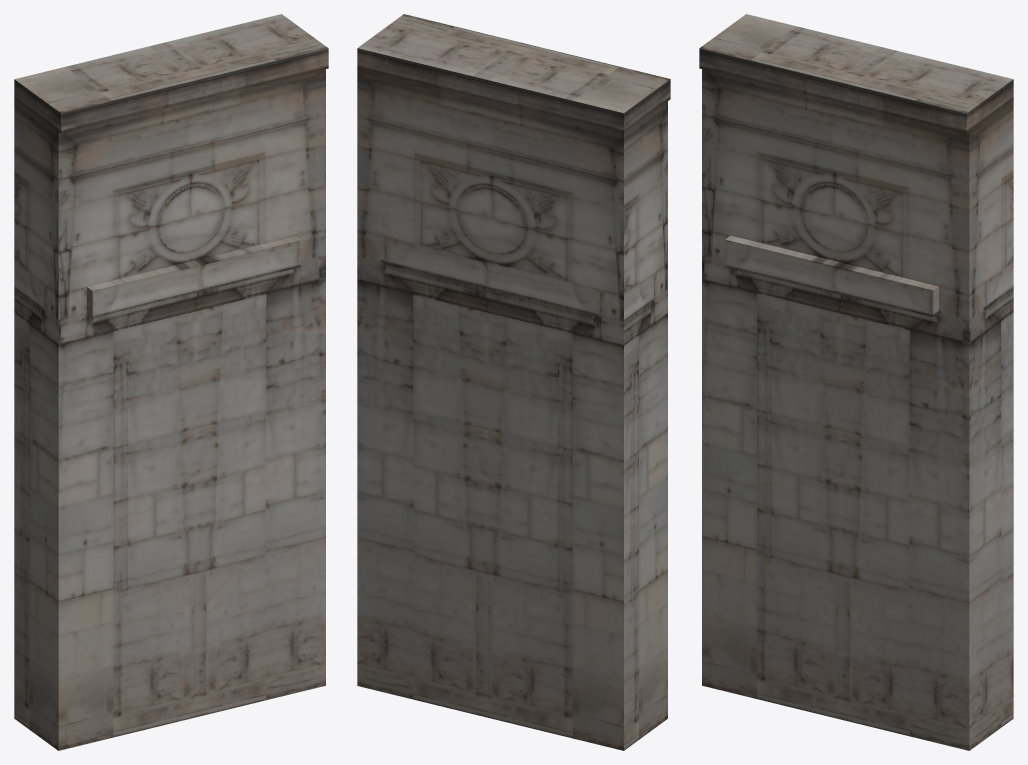
Rendered from Wide_Pillar_No_Door.FBX.
The picture shows the model from 3 angles, left to right: view 1: azimuth 30°, elevation 25°; view 2: azimuth 150°, elevation 25°; view 3: azimuth 330°, elevation 25°; orthographic projection.
Visible parts, largest first — view 1: Wide_Pillar_No_Door; view 2: Wide_Pillar_No_Door; view 3: Wide_Pillar_No_Door.
Part boxes in pixels (x1,y1,x2,y2): Wide_Pillar_No_Door: (14, 14, 328, 750); Wide_Pillar_No_Door: (357, 14, 670, 750); Wide_Pillar_No_Door: (699, 14, 1013, 750).
Size of the model in its own units: 448 by 1024 by 144.
